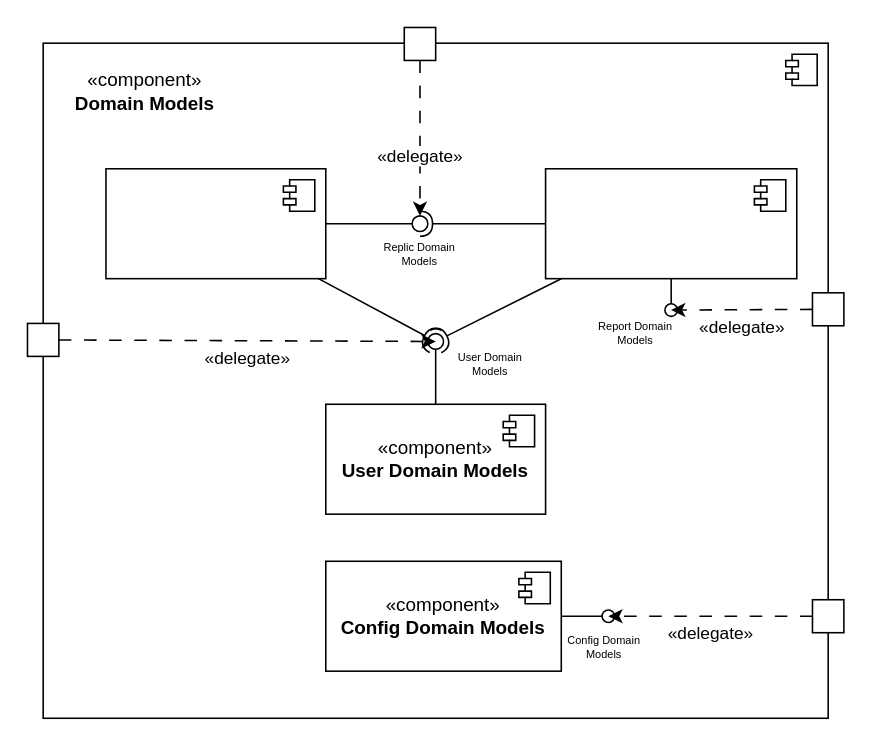
Some shapes in this 871 by 746 pixel diagram are drawn without their labels. The shapes that lost their labels are listed below. From the top down, each one's centre as x and y in pixels, then its label:
At pixel 215 223: "«component» Replic Domain Models".
At pixel 670 223: "«component» Report Domain Models".
